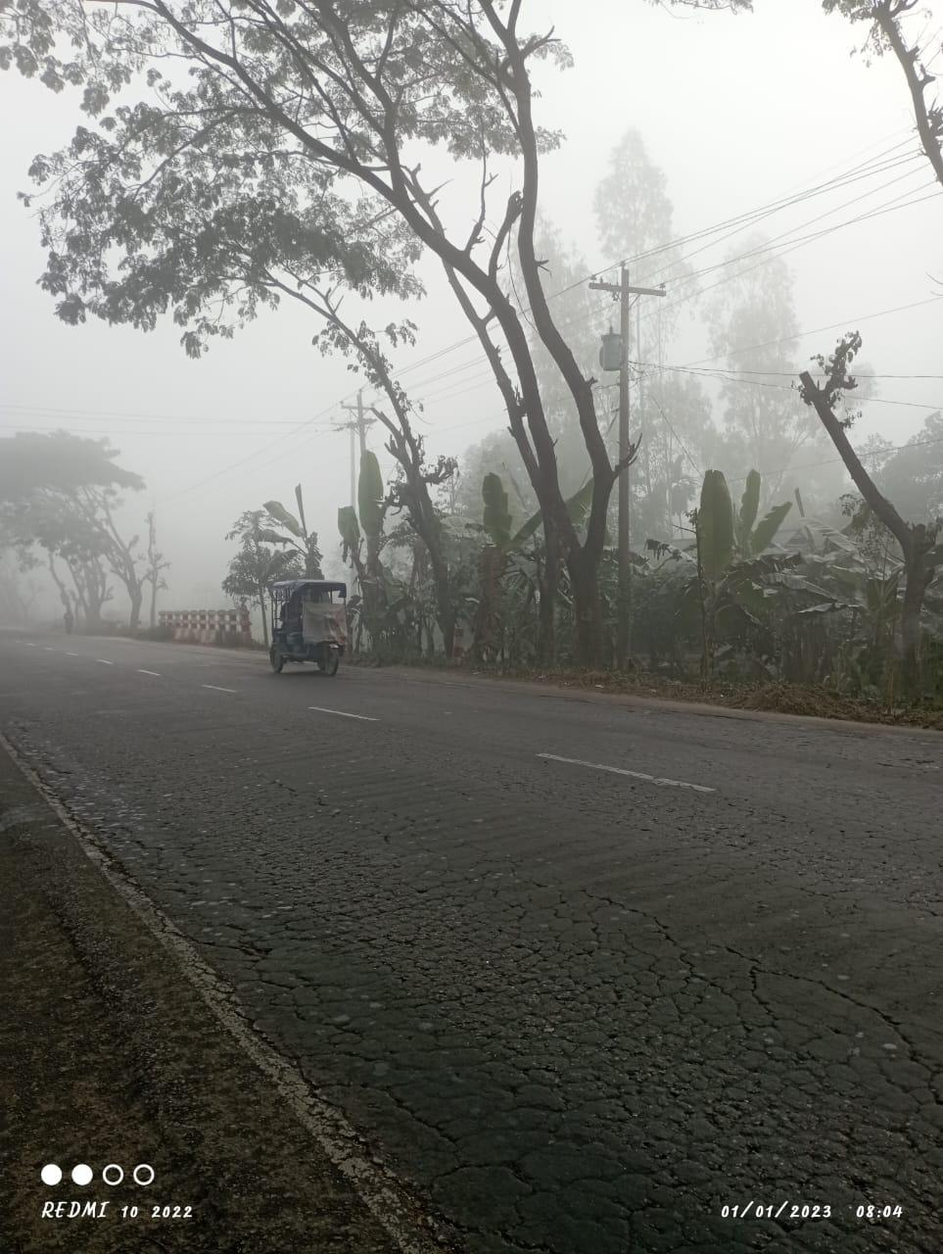Car: (243, 567, 365, 689)
